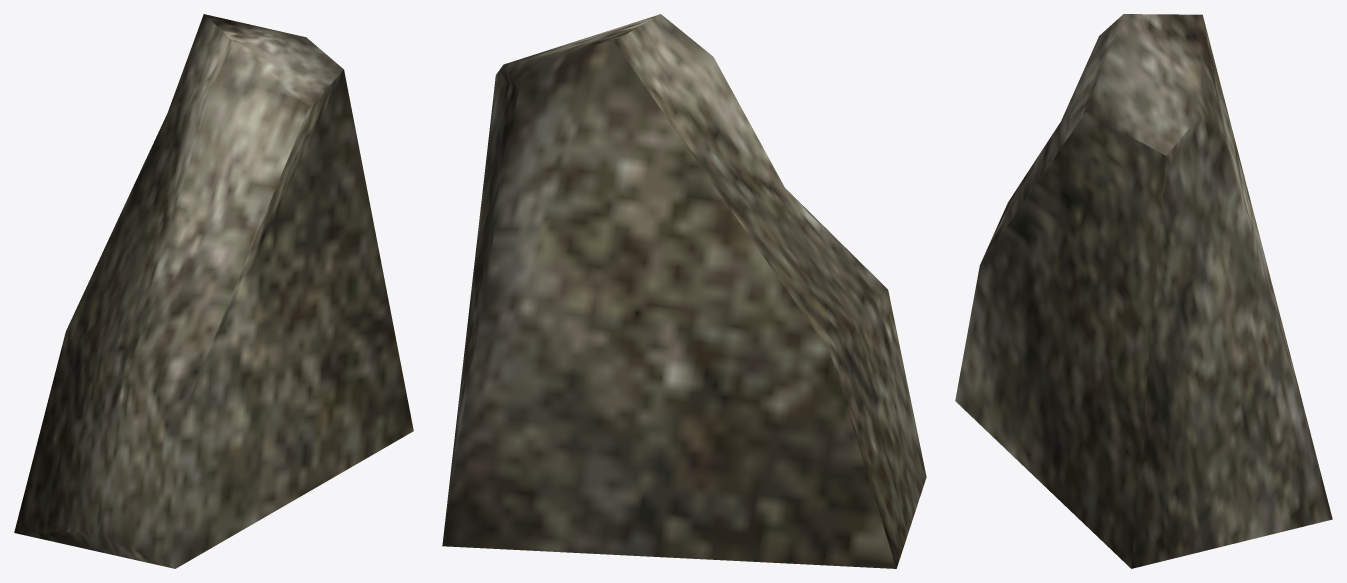
The model's file is b_general_obj_15.fbx.
3 views of the same model, side by side, from view 1: azimuth 30°, elevation 25°; view 2: azimuth 150°, elevation 25°; view 3: azimuth 270°, elevation 25° (orthographic). The views are drawn at different scales.
Visible parts, largest first — view 1: Object02; view 2: Object02; view 3: Object02.
Part boxes in pixels (box(x1,y1,x2,y2)): Object02: box(14, 14, 413, 568); Object02: box(442, 14, 926, 568); Object02: box(955, 14, 1332, 568).
Size of the model in its own units: 0.9616 by 1.02 by 0.744.
